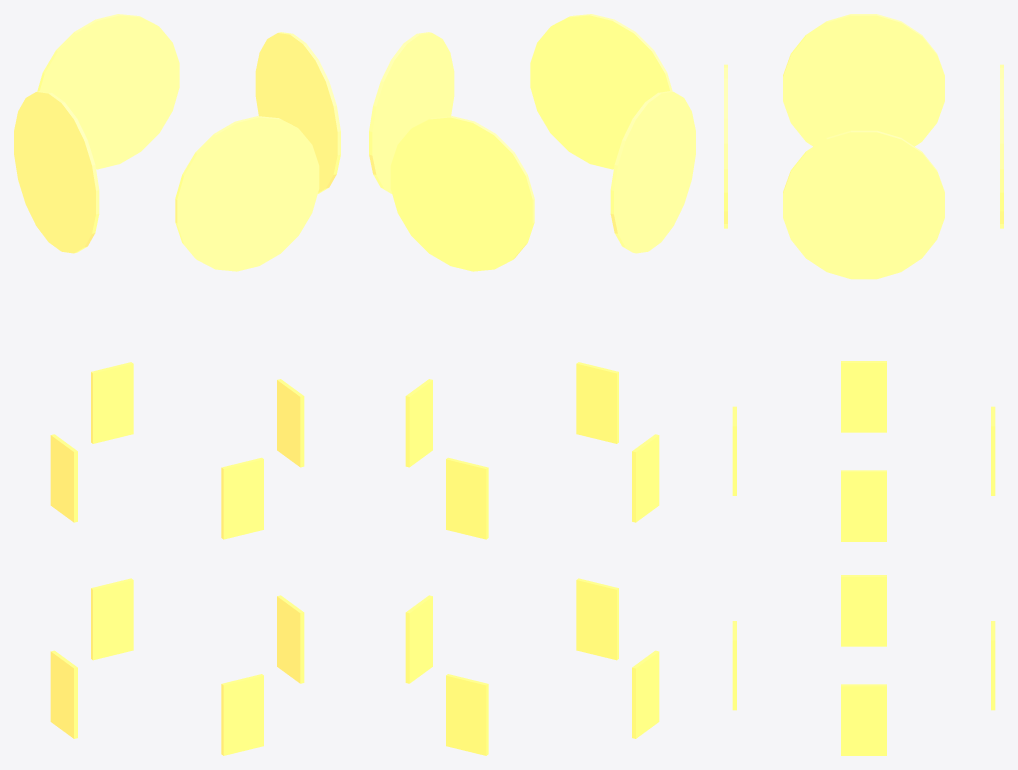
Rendered from ClockTower_Glow.glb.
3 views of the same model, side by side, from view 1: azimuth 30°, elevation 25°; view 2: azimuth 150°, elevation 25°; view 3: azimuth 270°, elevation 25° (orthographic).
Visible parts, largest first — view 1: ClockTower_Glow; view 2: ClockTower_Glow; view 3: ClockTower_Glow.
Part boxes in pixels (x1,y1,x2,y2): ClockTower_Glow: (14,14,340,755); ClockTower_Glow: (369,14,695,755); ClockTower_Glow: (724,14,1003,755).
Size of the model in its own units: 10.9 by 26.96 by 10.9.
